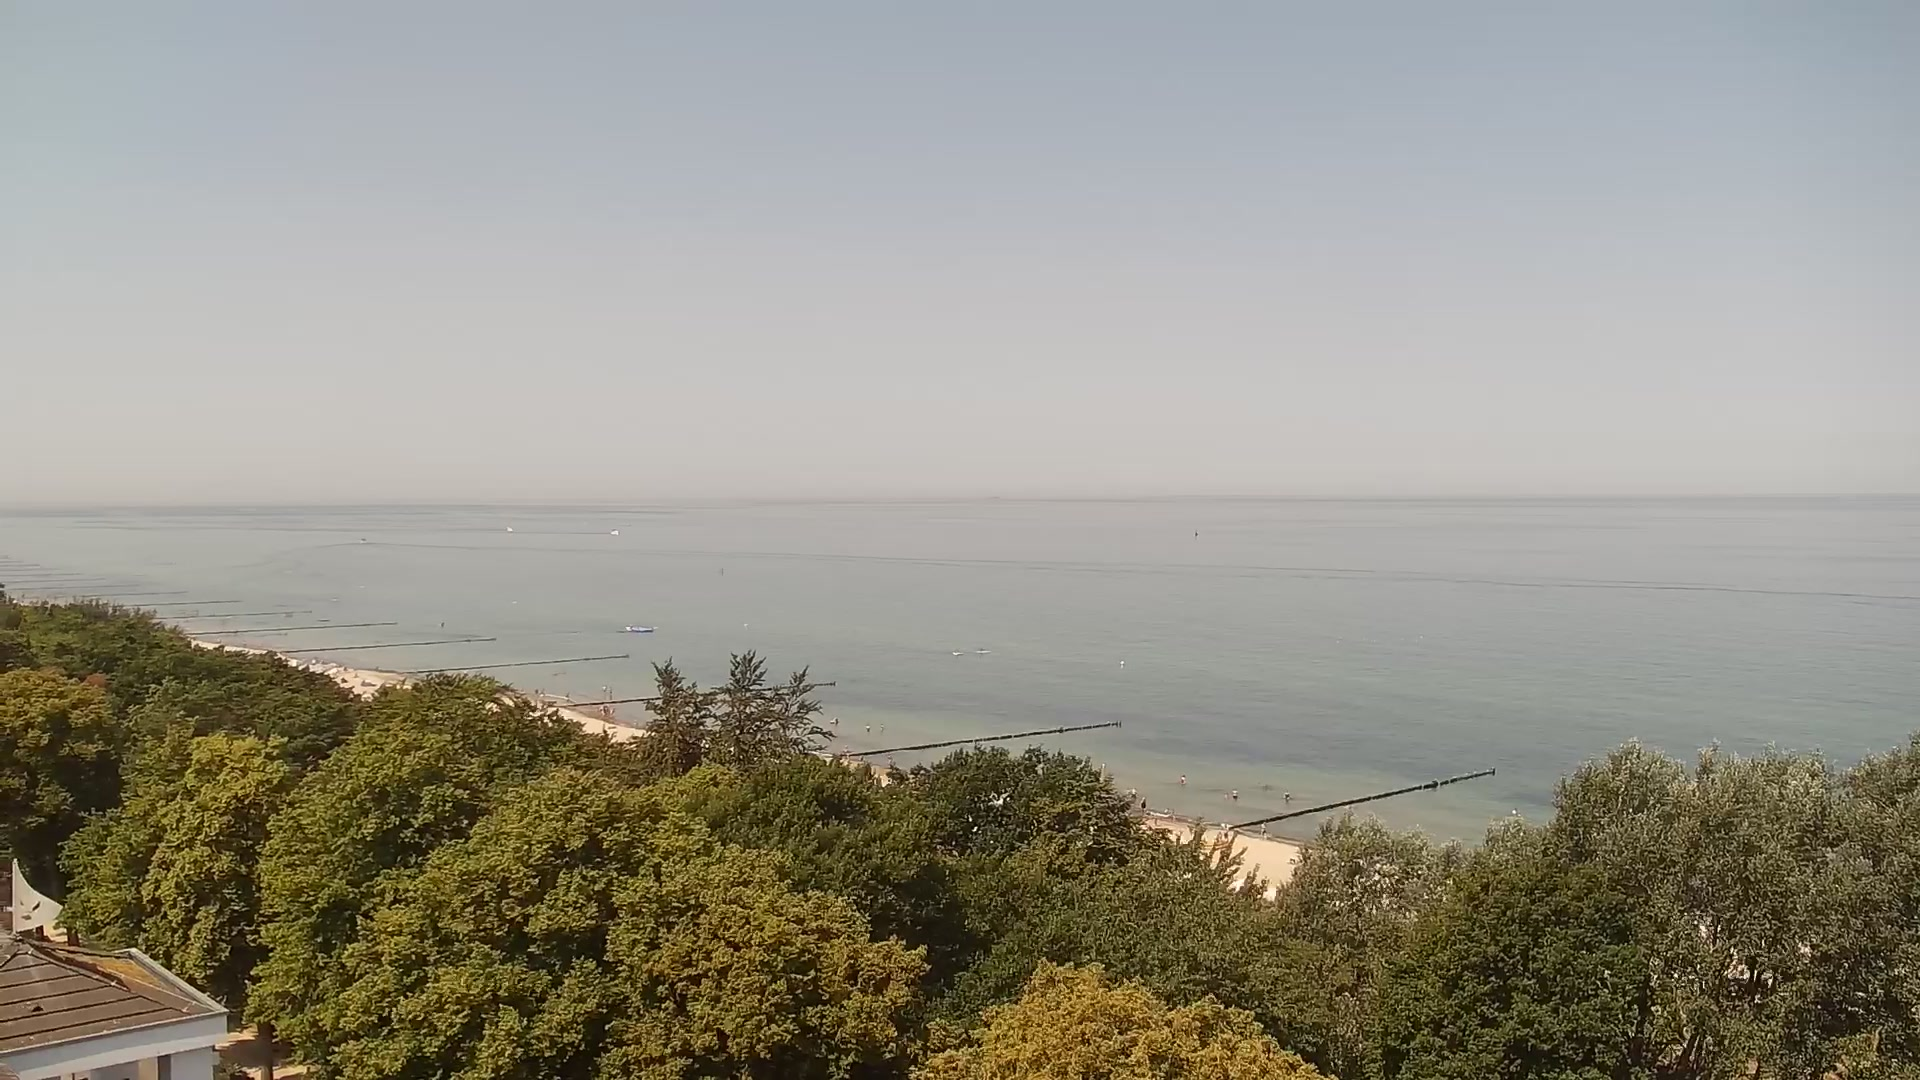human: (1140, 795, 1148, 816), (1260, 821, 1269, 839), (1282, 790, 1292, 802), (1230, 788, 1240, 801), (609, 706, 616, 719), (600, 704, 607, 717), (1179, 774, 1186, 786), (830, 716, 839, 724), (601, 683, 607, 693), (564, 692, 570, 702), (866, 723, 871, 732)
sea: (625, 624, 657, 632), (973, 646, 992, 655), (503, 525, 514, 533), (609, 528, 620, 536), (951, 648, 960, 656), (961, 646, 963, 654)
